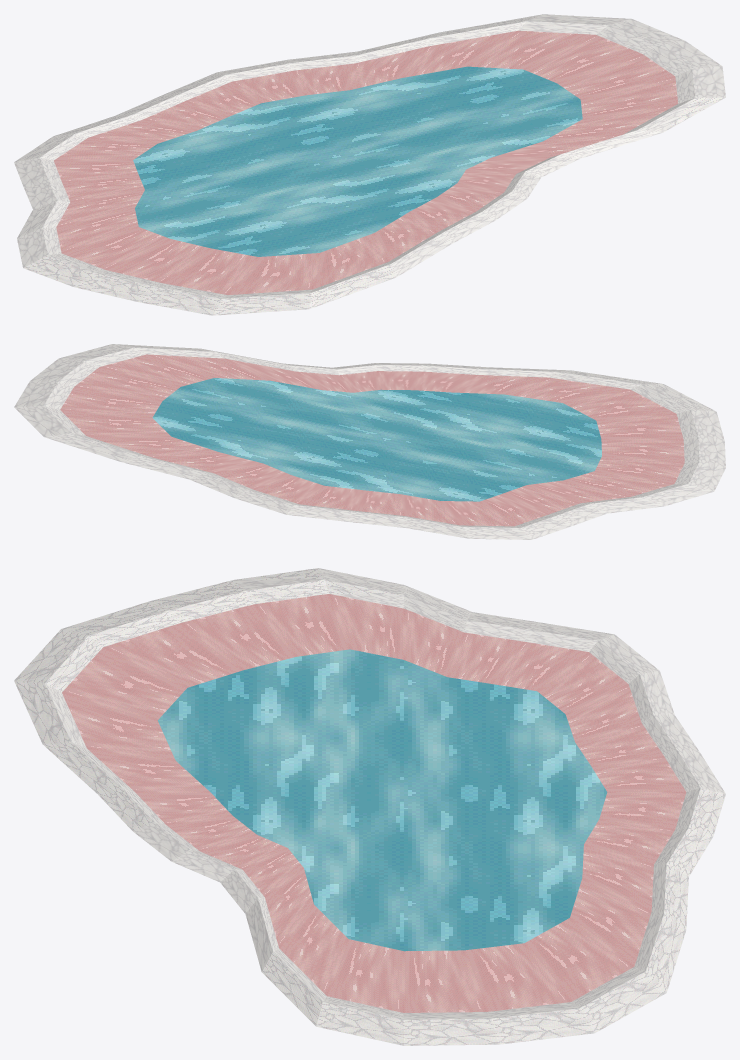
File: laguna_salina.obj
3 views of the same model, one above another, from view 1: azimuth 30°, elevation 25°; view 2: azimuth 150°, elevation 25°; view 3: azimuth 270°, elevation 25° (orthographic). The views are drawn at different scales.
Visible parts, largest first — view 1: laguna_salina; view 2: laguna_salina; view 3: laguna_salina.
Boxes of the visible parts, x1=… form: laguna_salina: x1=14, y1=14, x2=725, y2=315; laguna_salina: x1=14, y1=344, x2=725, y2=539; laguna_salina: x1=14, y1=568, x2=725, y2=1045.
Size of the model in its own units: 25.93 by 0.16 by 16.32.
3 materials, 3 textured.
